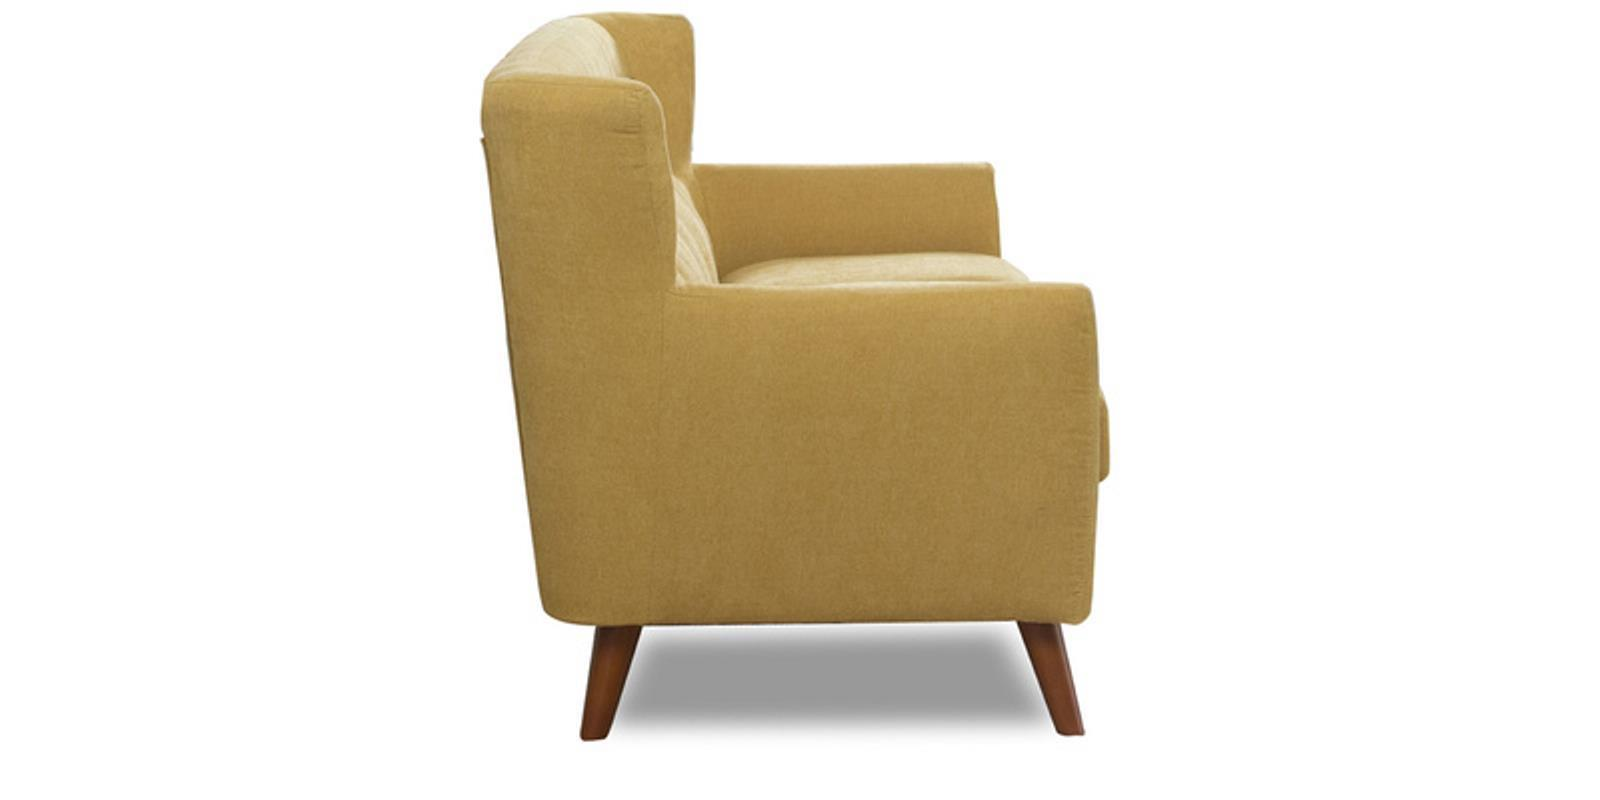Havana Three Seater Sofa in Ochre Colour by CasaCraft: (471, 6, 1184, 800)
